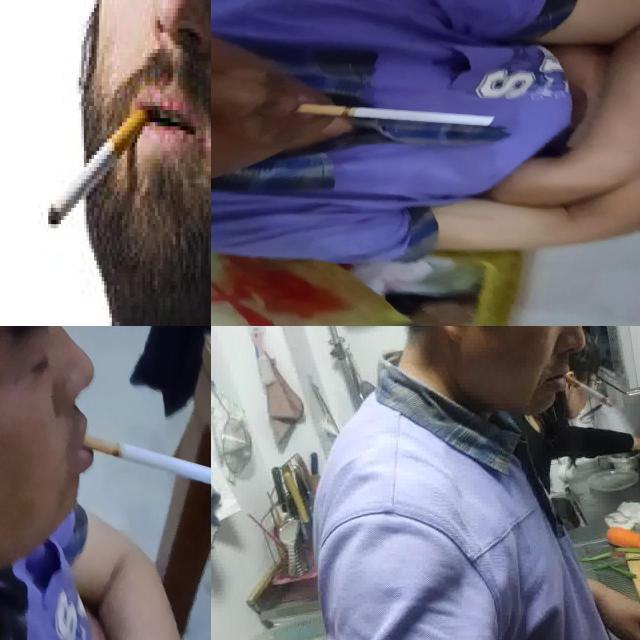smoking: (46, 106, 150, 227), (80, 434, 210, 486), (292, 102, 498, 128), (562, 372, 612, 408)
